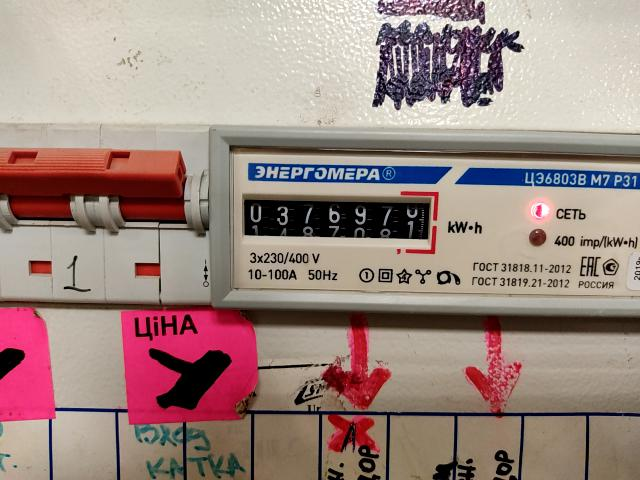0: (248, 201, 262, 223)
1: (405, 219, 416, 239)
3: (276, 205, 290, 226)
6: (327, 201, 342, 224)
7: (301, 202, 316, 226), (379, 204, 394, 227)
9: (353, 203, 367, 225)
screen: (234, 181, 443, 257)
